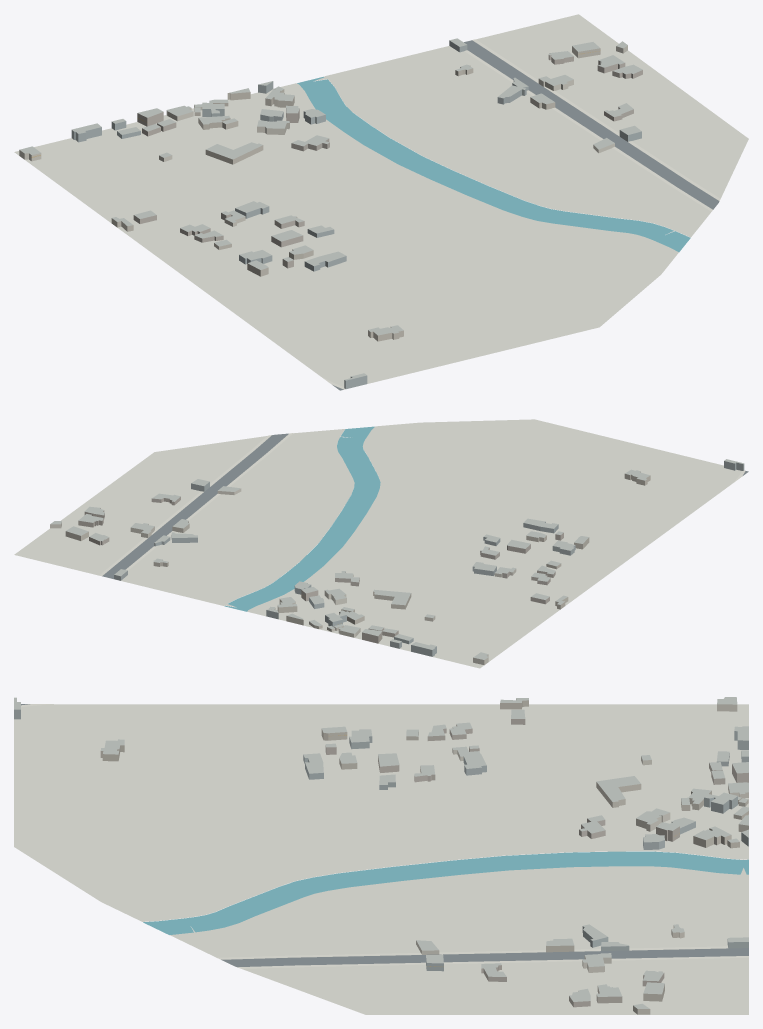
The picture shows the model from 3 angles, top to bottom: view 1: azimuth 30°, elevation 25°; view 2: azimuth 150°, elevation 25°; view 3: azimuth 270°, elevation 25°; orthographic projection. The views are drawn at different scales.
Visible parts, largest first — view 1: city; view 2: city; view 3: city.
Boxes of the visible parts, <box> form: city: <box>14,14,748,390</box>; city: <box>14,419,748,668</box>; city: <box>14,697,748,1014</box>.
Bounding box in the file's own units: 500 × 8.38 × 500.
